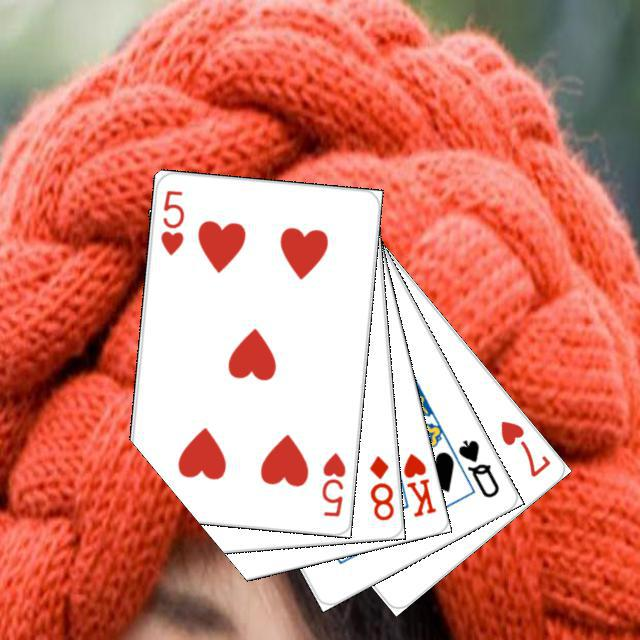5h: (317, 447, 347, 519), (156, 185, 186, 256)
7h: (495, 415, 553, 479)
8d: (364, 451, 396, 522)
Kh: (388, 445, 438, 519)
Qs: (453, 434, 501, 500)
